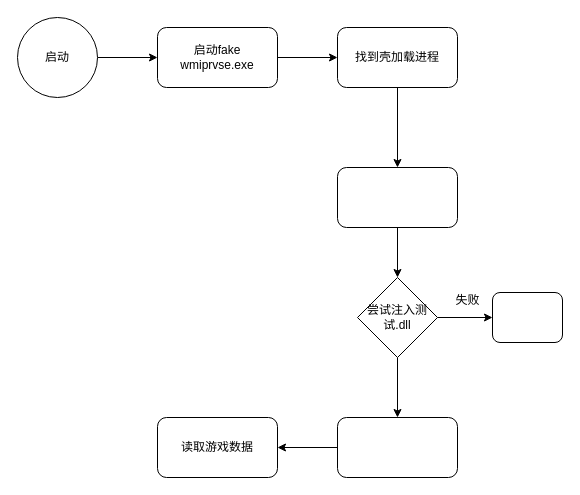
Image size: 580x495. Some labels were removed from this diagram. Here are the shapes that lost their labels. From the top down, the centre of each, then its label:
point 397,197: patch LdrInitlizeThunk
point 527,317: 结束
point 397,447: 在测试.dll中写入shellcode并调用
